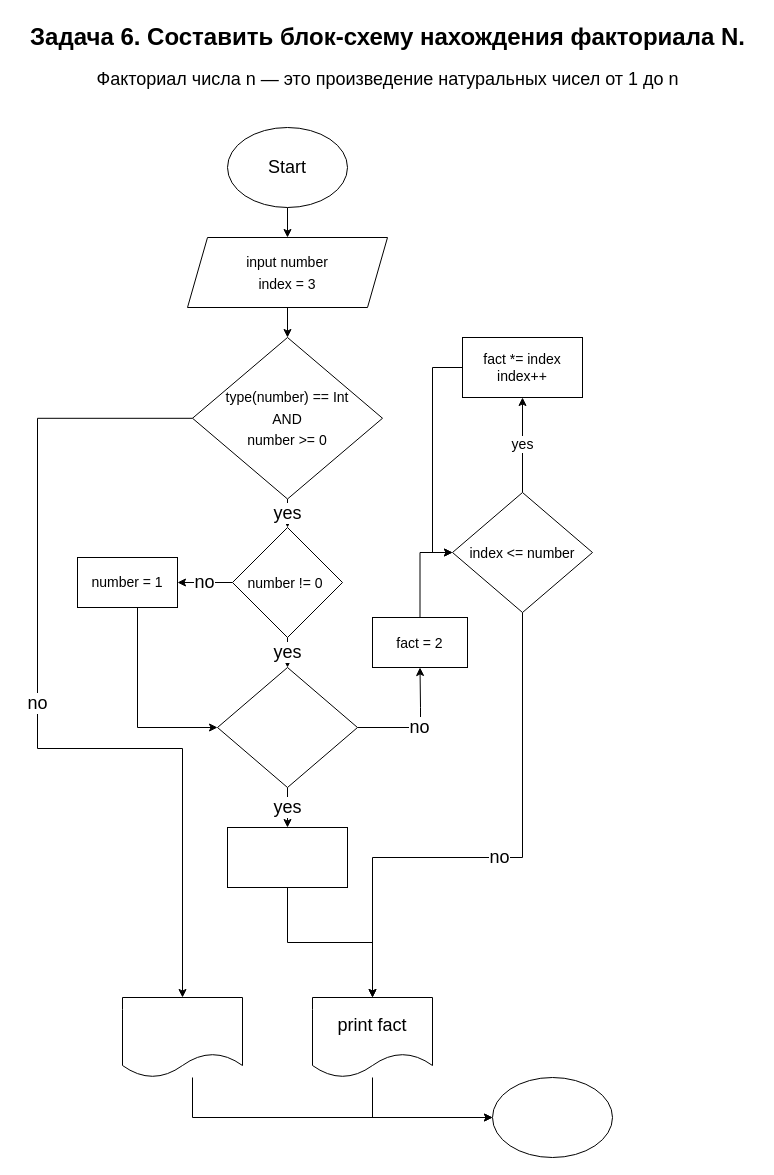
Some shapes in this 774 by 1175 pixel diagram are drawn without their labels. The box of each missing label's shape, as (x1, y1, x2, y2) in pixels:
fact = number: (226, 826, 348, 888)
Finish: (492, 1076, 612, 1158)
number <= 2: (216, 666, 358, 788)
print error: (122, 996, 242, 1078)
